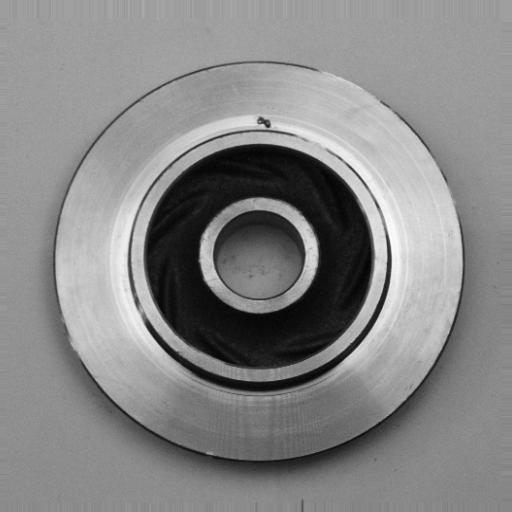crack: (248, 108, 282, 134)
scratch: (288, 127, 354, 157)
unpolished_casting: (49, 61, 466, 468)
